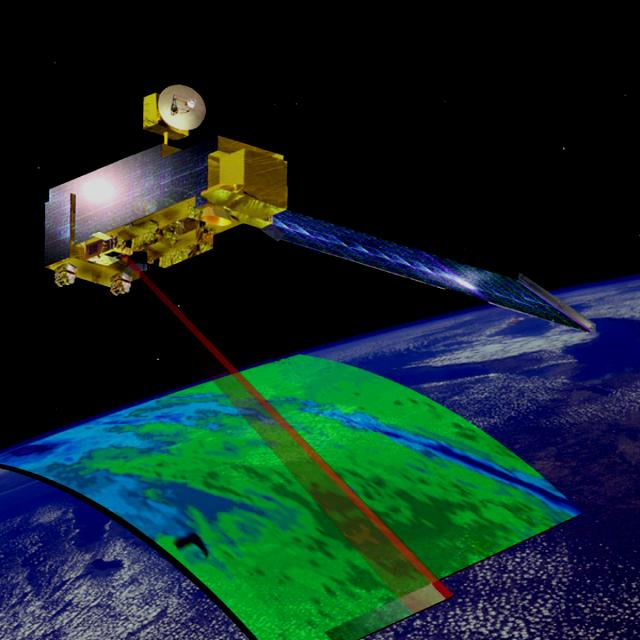satellite: (37, 76, 601, 349)
